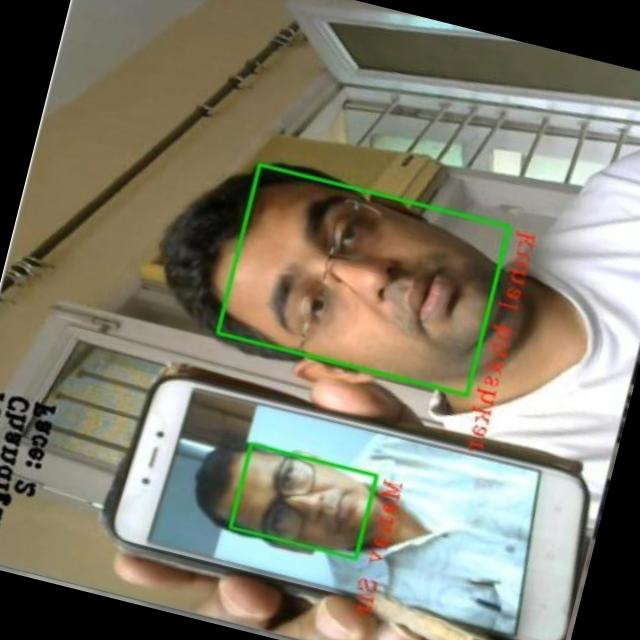bareface: (206, 162, 524, 414), (206, 430, 386, 573)
